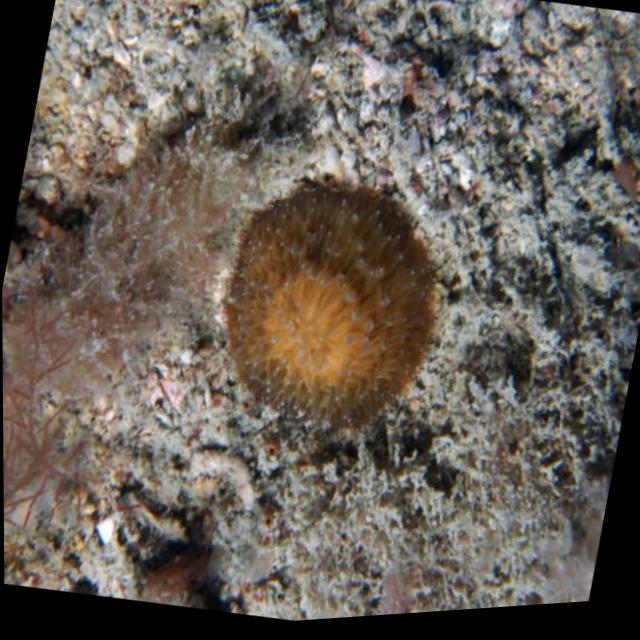Healthy Coral: (201, 159, 469, 467)
